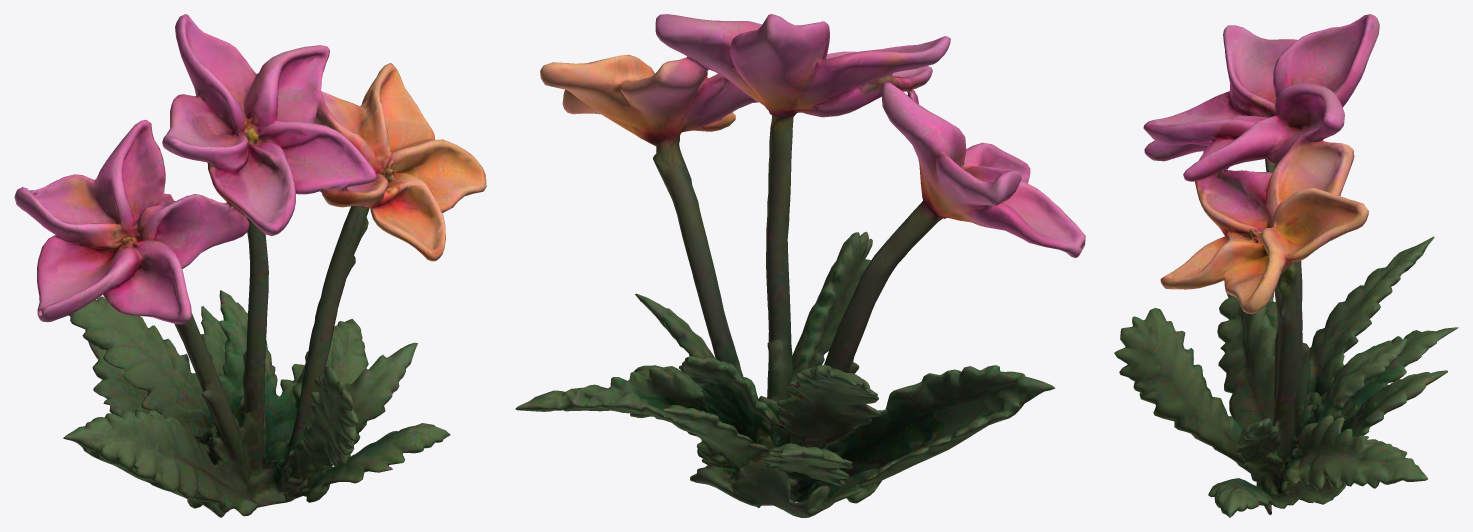
The picture shows the model from 3 angles, left to right: view 1: azimuth 30°, elevation 25°; view 2: azimuth 150°, elevation 25°; view 3: azimuth 270°, elevation 25°; orthographic projection. The views are drawn at different scales.
Size of the model in its own units: 2 by 1.97 by 1.34.
1 material, 1 textured.
